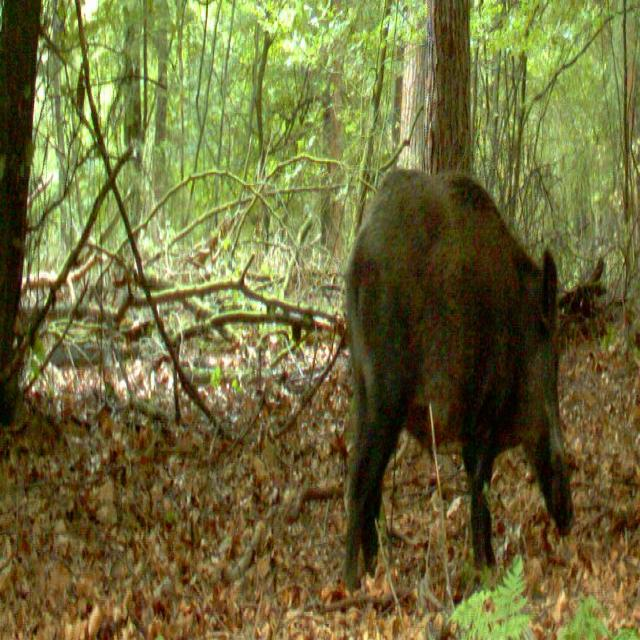pig: (341, 160, 577, 580)
